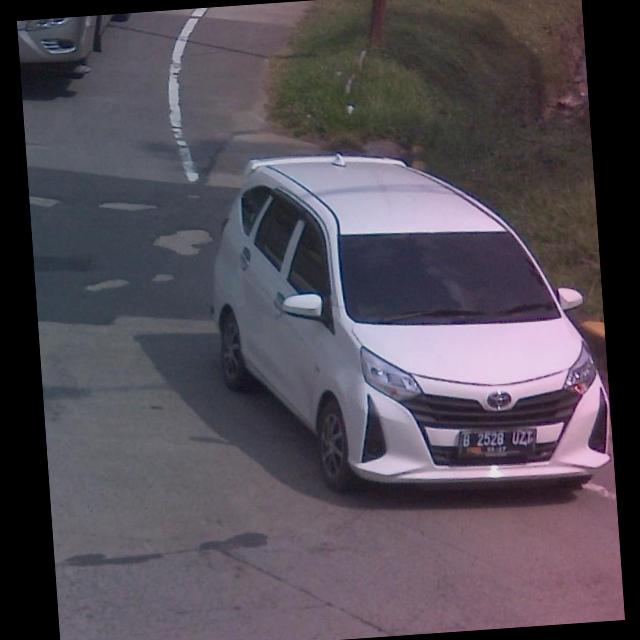plate: (454, 423, 540, 461)
